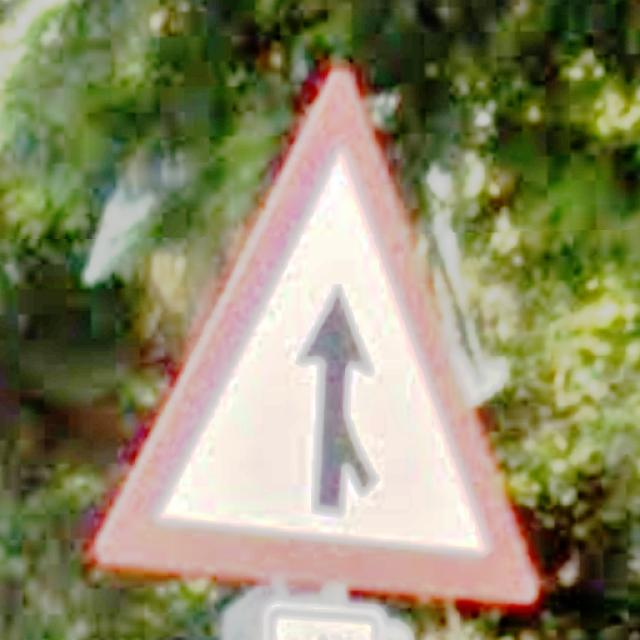rightmerge: (94, 71, 540, 605)
